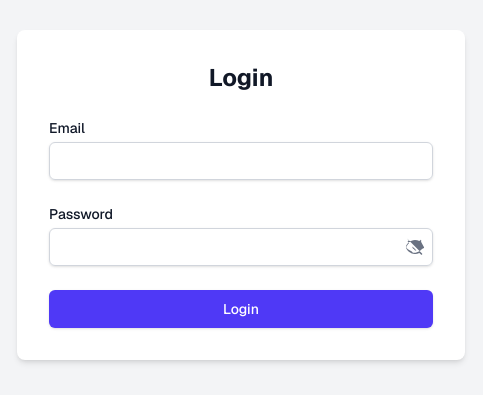
Test: LoginPage › should show password validation error for short password
# Fill email and short password
Type "test@example.com" into the field labelled "Email" at (241, 161), box x1=49 y1=142 x2=433 y2=180
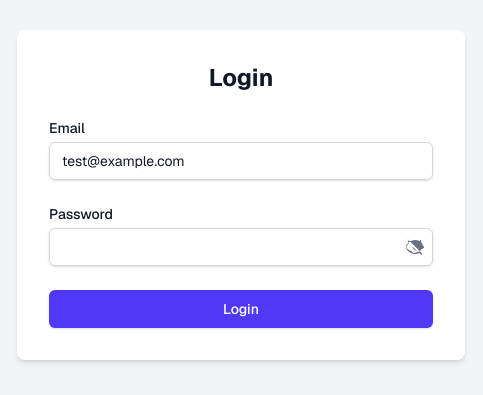
Type "pass" into the password field labelled "Password" at (241, 247), box x1=49 y1=228 x2=433 y2=266
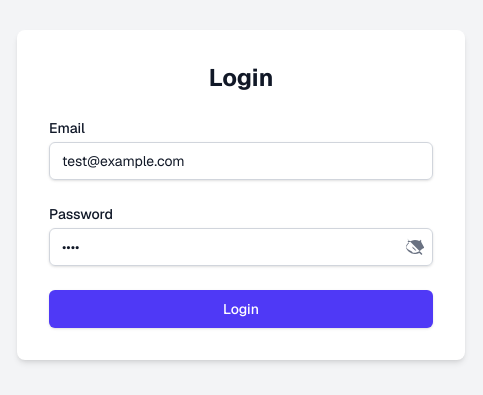
# Submit the form
Click the button "Login" at (241, 309), box x1=49 y1=290 x2=433 y2=328
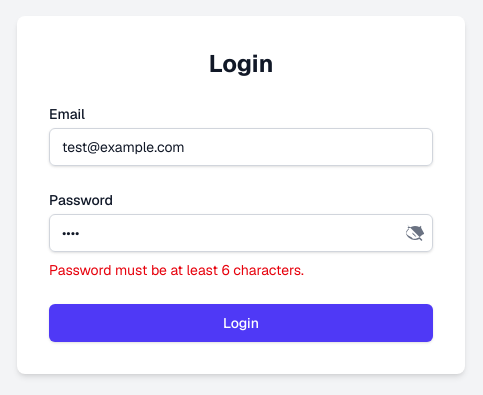
Expected: the text "Password must be at least 6 characters." is shown, x1=49 y1=261 x2=304 y2=279
